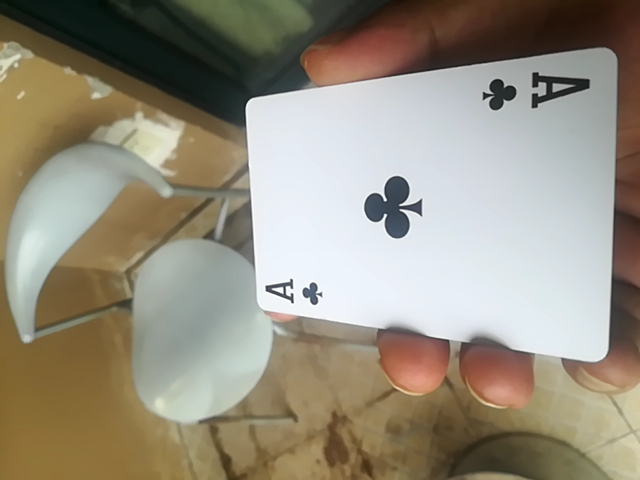mh a: (245, 46, 622, 364)
